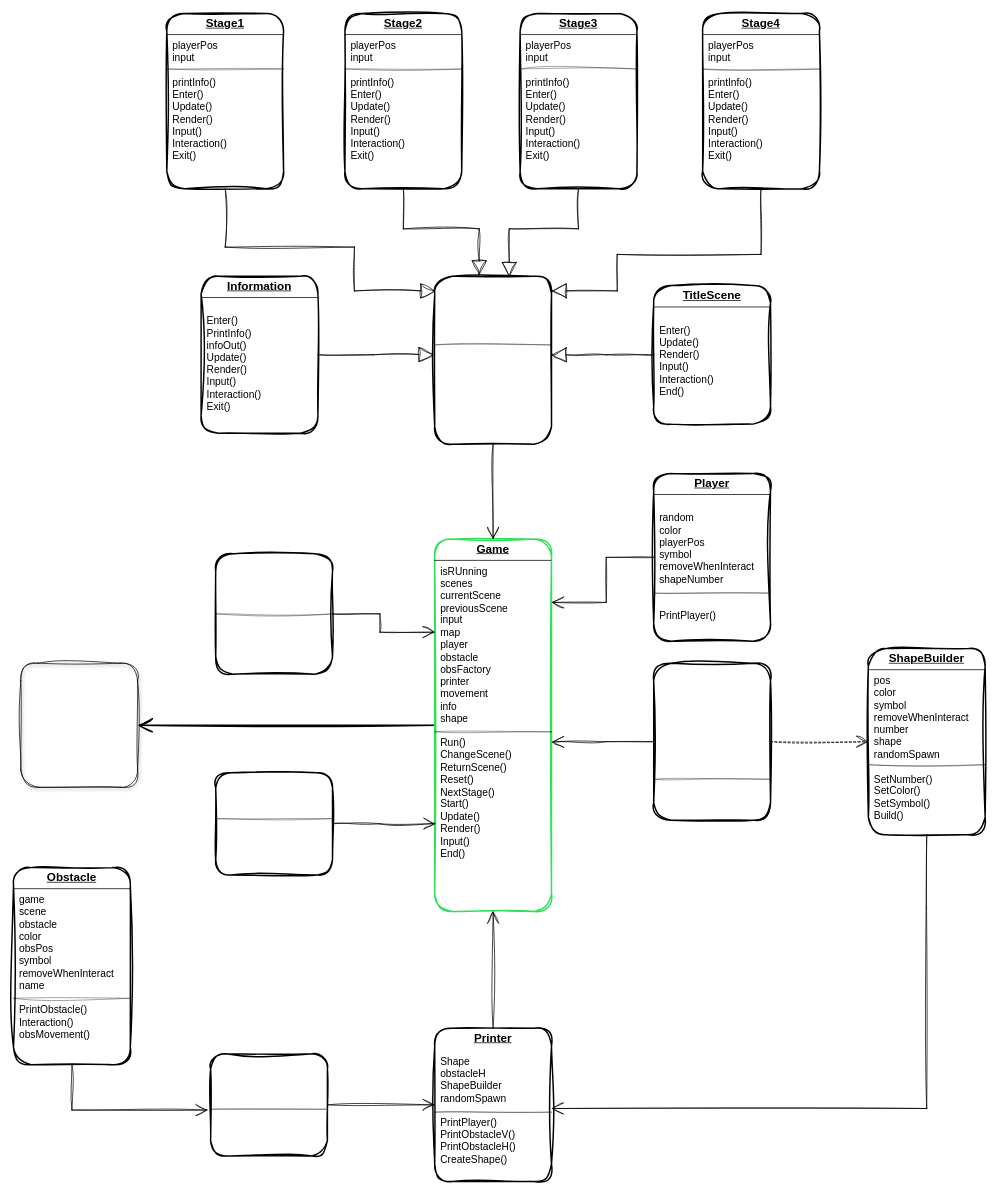
This 998x1194 diagram has some shape labels left out. The centre of each missing label's shape, as x and y in pixels:
"Main * Launcher" goes at point (79, 726).
"Map map PrintMap()" goes at point (274, 614).
"Movement game Moves" goes at point (274, 823).
"ObsFactory Obstacle obsPos" goes at point (269, 1104).
"Scene game info input Enter() Render() Input() Update() Interaction() Exit()" goes at point (493, 360).
"Shape pos color symbol removeWhenInteract number shape randomSpawn PrintShape()" goes at point (712, 741).
